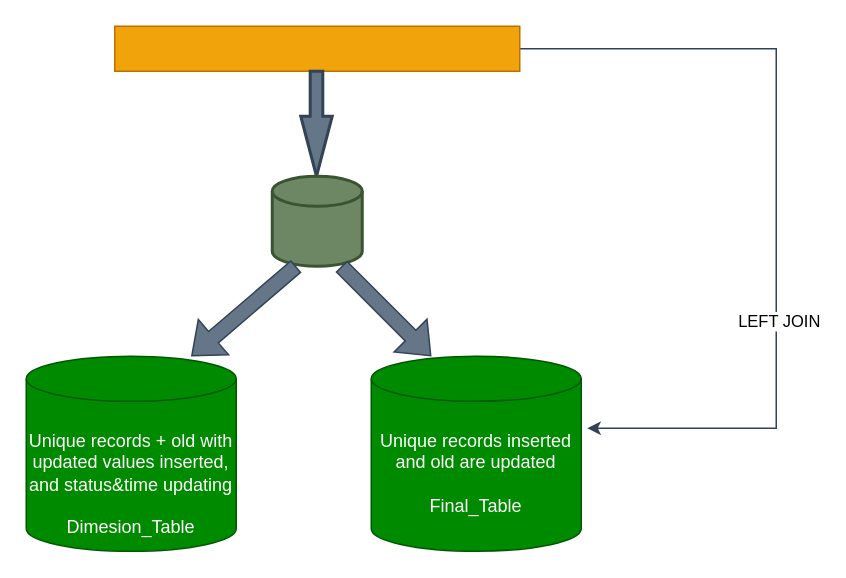
This 846x578 diagram has some shape labels left out. The centre of each missing label's shape, as x and y in pixels:
GET_data_from _API: [316,48]
staging_ table: [316,220]
